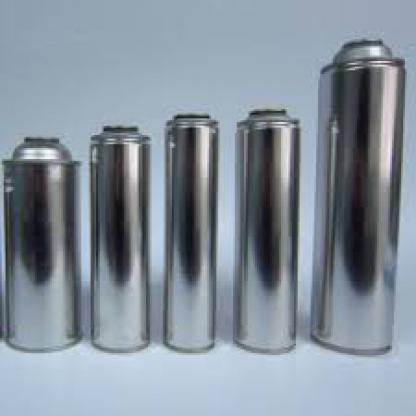METAL: (307, 37, 403, 351), (0, 137, 80, 351), (233, 107, 299, 352), (87, 120, 150, 348), (162, 111, 214, 351)
